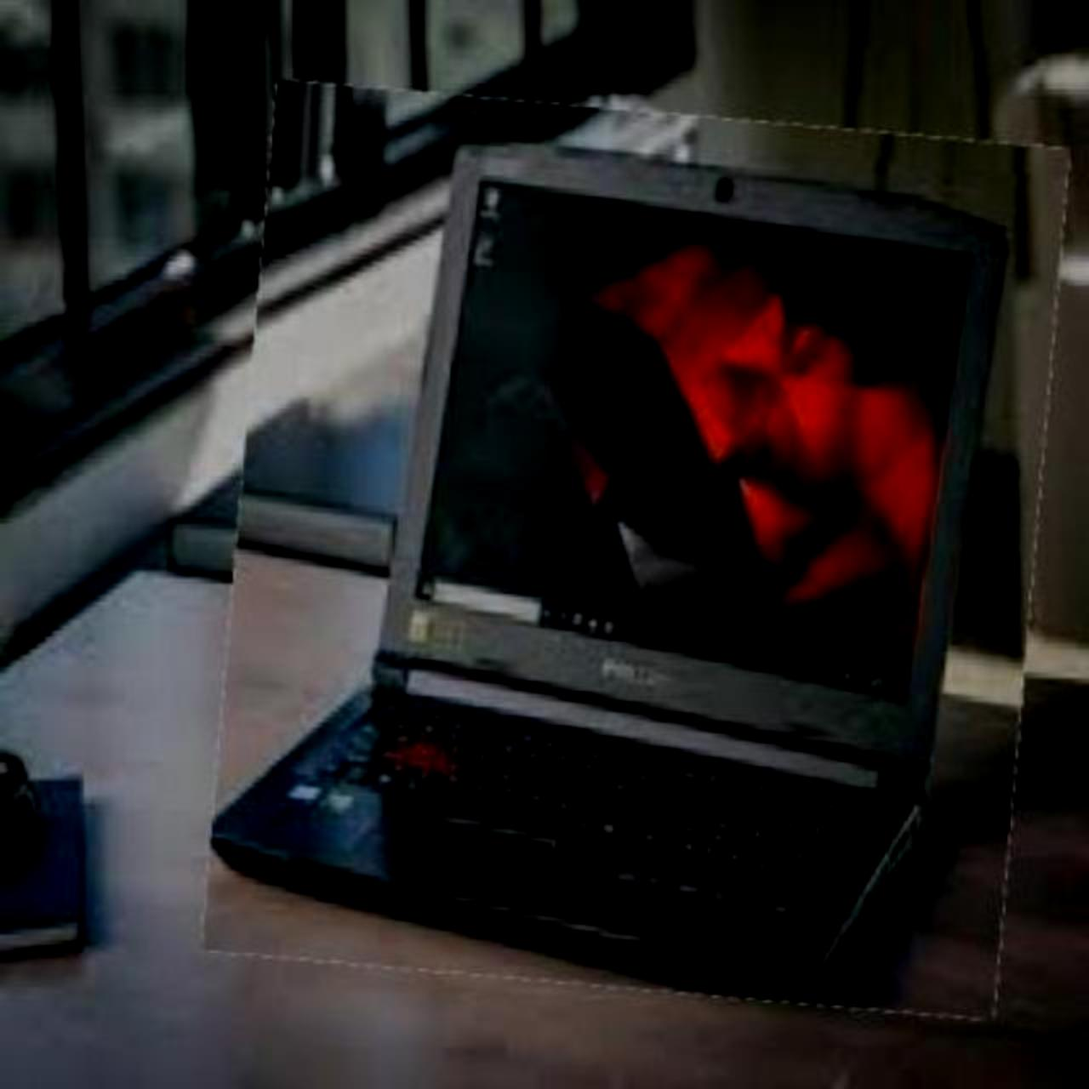laptop: (219, 98, 1051, 1005)
